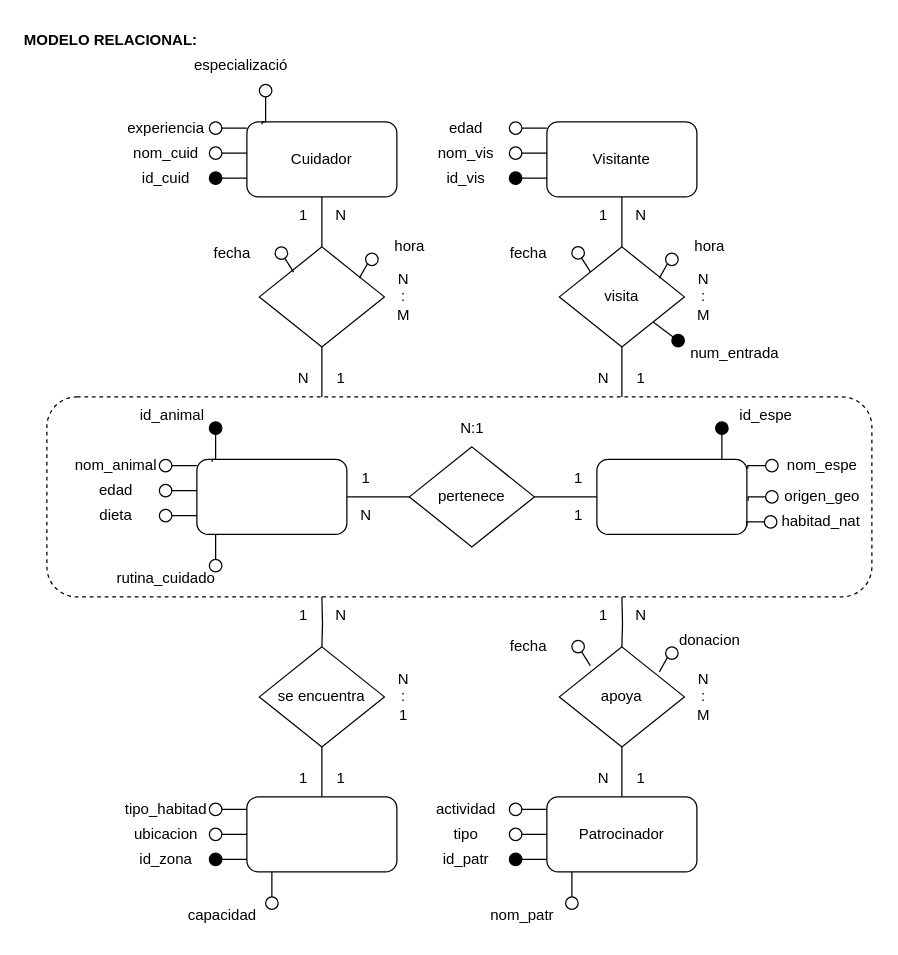
The diagram is 898 pixels wide and 955 high, and some of its shapes have lost their labels. The centre of each missing label's shape, as x and y in pixels:
"Animal" goes at (271,496).
"cuida" goes at (321,296).
"Especie" goes at (671,496).
"Zona" goes at (321,834).
